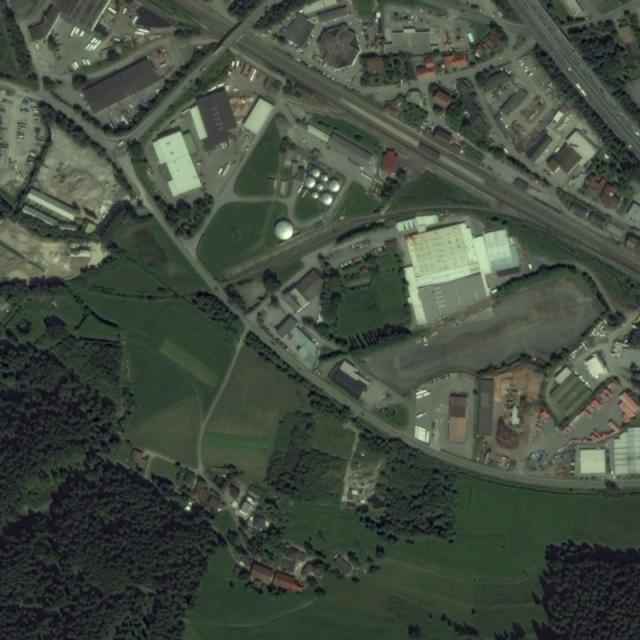vehicle: (575, 84, 587, 98)
